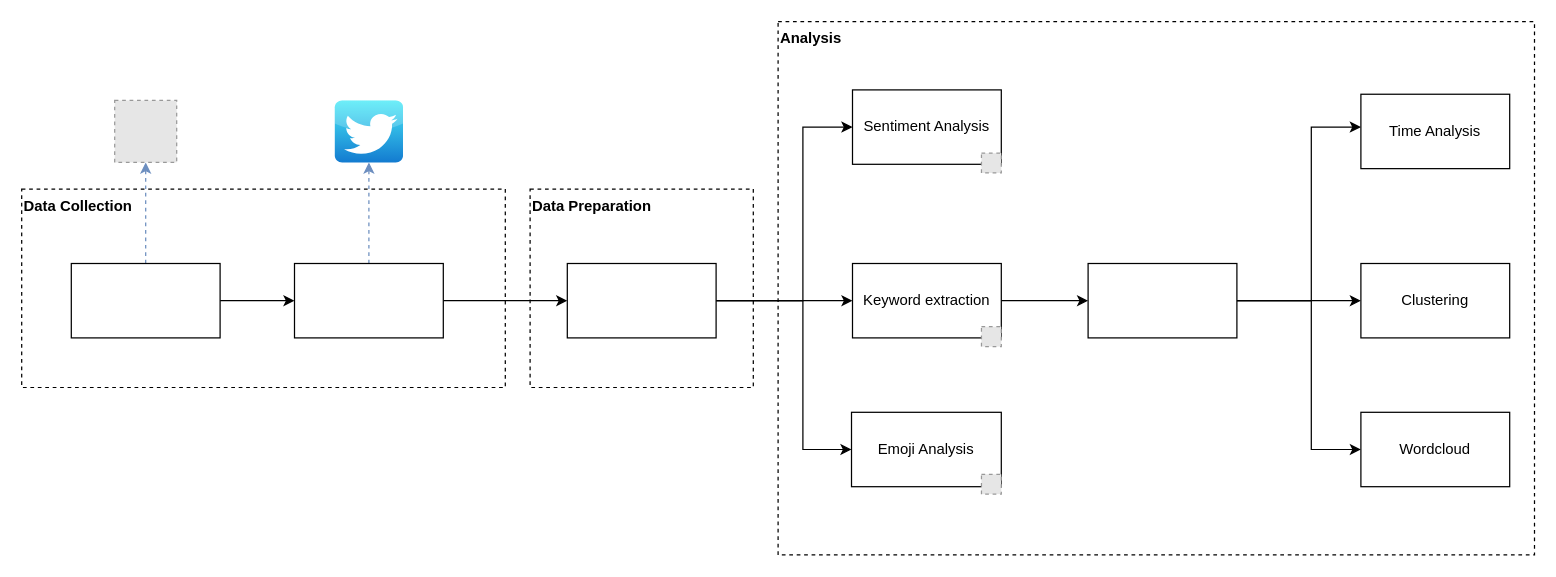
This 1556x577 diagram has some shape labels left out. Grey dashed boxes stand in for pictures. Here are the shapes that lost their labels. From the top down, the centre of each, then its label:
At pixel 145 300: "Influencers Selection".
At pixel 368 300: "Web Crawler".
At pixel 641 300: "Cleanup, Filtering".
At pixel 1162 300: "Aggregator".
